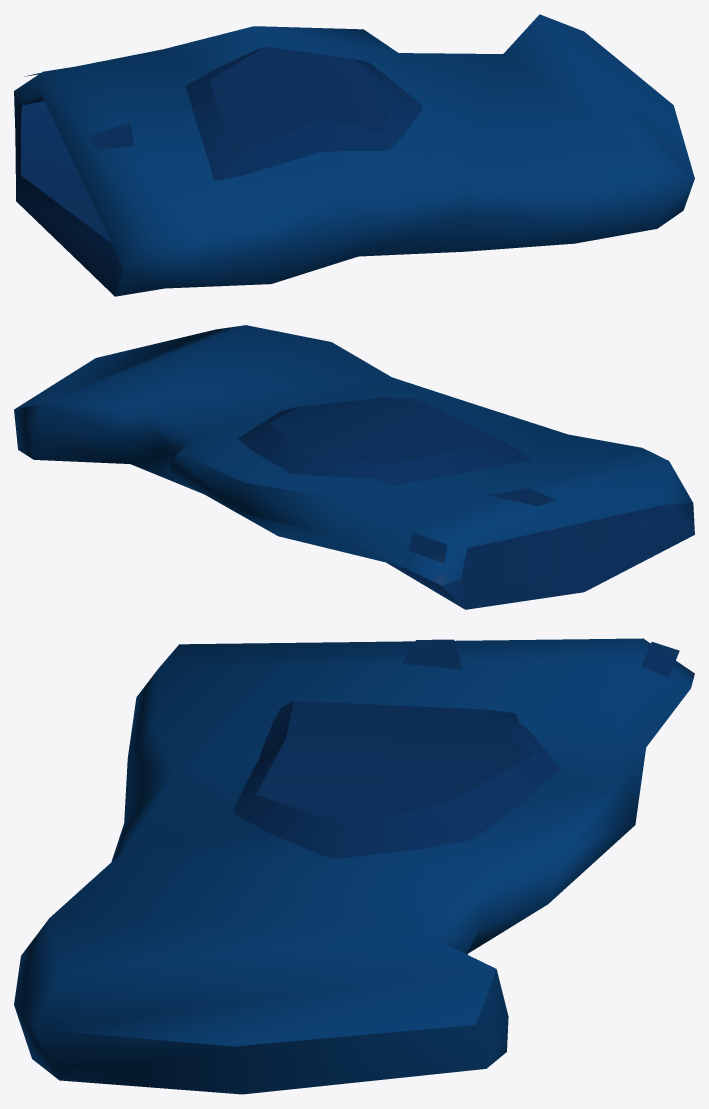
File: PantsDirty.fbx
3 renders of one model, top to bottom at view 1: azimuth 30°, elevation 25°; view 2: azimuth 150°, elevation 25°; view 3: azimuth 270°, elevation 25°, orthographic. The views are drawn at different scales.
Parts seen in each view (by area): view 1: PantsDirty_1; view 2: PantsDirty_1; view 3: PantsDirty_1.
Boxes of the visible parts, x1,y1,x2,y2 form: PantsDirty_1: (14, 14, 694, 296); PantsDirty_1: (14, 325, 694, 609); PantsDirty_1: (14, 638, 694, 1094).
Bounding box in the file's own units: 93.29 × 17.01 × 67.3.
